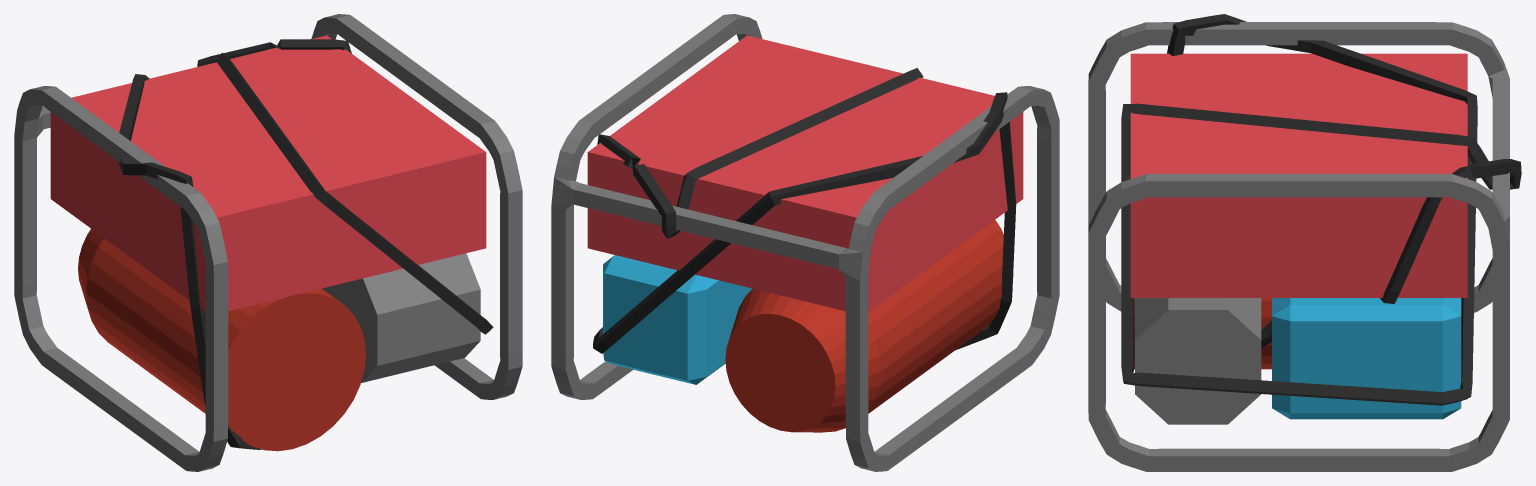
File: Générateur.glb
The picture shows the model from 3 angles, left to right: view 1: azimuth 30°, elevation 25°; view 2: azimuth 150°, elevation 25°; view 3: azimuth 270°, elevation 25°; orthographic projection. The views are drawn at different scales.
Parts seen in each view (by area): view 1: Cylinder; view 2: Cylinder; view 3: Cylinder.
Boxes of the visible parts, x1,y1,x2,y2 form: Cylinder: [14, 14, 522, 471]; Cylinder: [551, 14, 1059, 471]; Cylinder: [1088, 14, 1521, 471].
Bounding box in the file's own units: 1.71 × 1.47 × 1.93.
